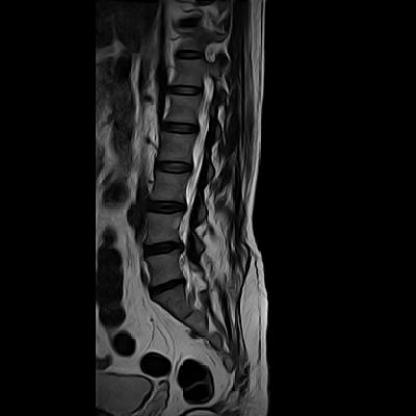Disc Bulgerotation: (140, 237, 184, 258), (146, 278, 186, 298)
